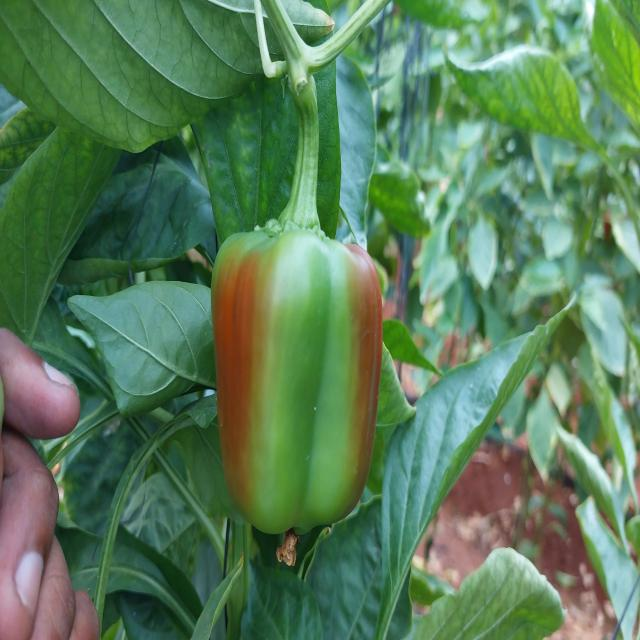BrownishRed--Can-be-Harvested: (208, 228, 384, 540)
